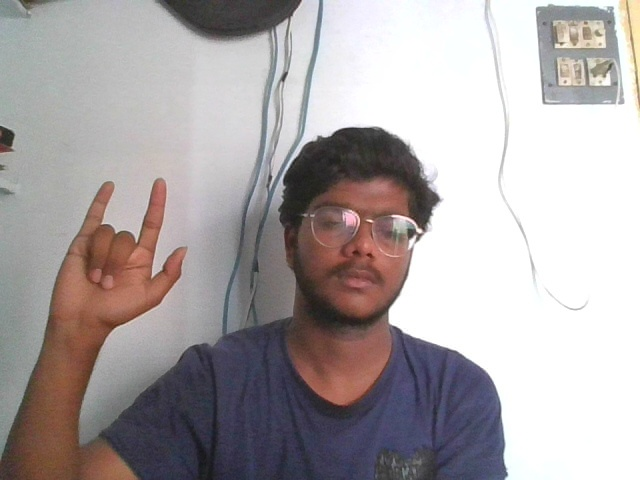IloveYou: (51, 170, 190, 350)
